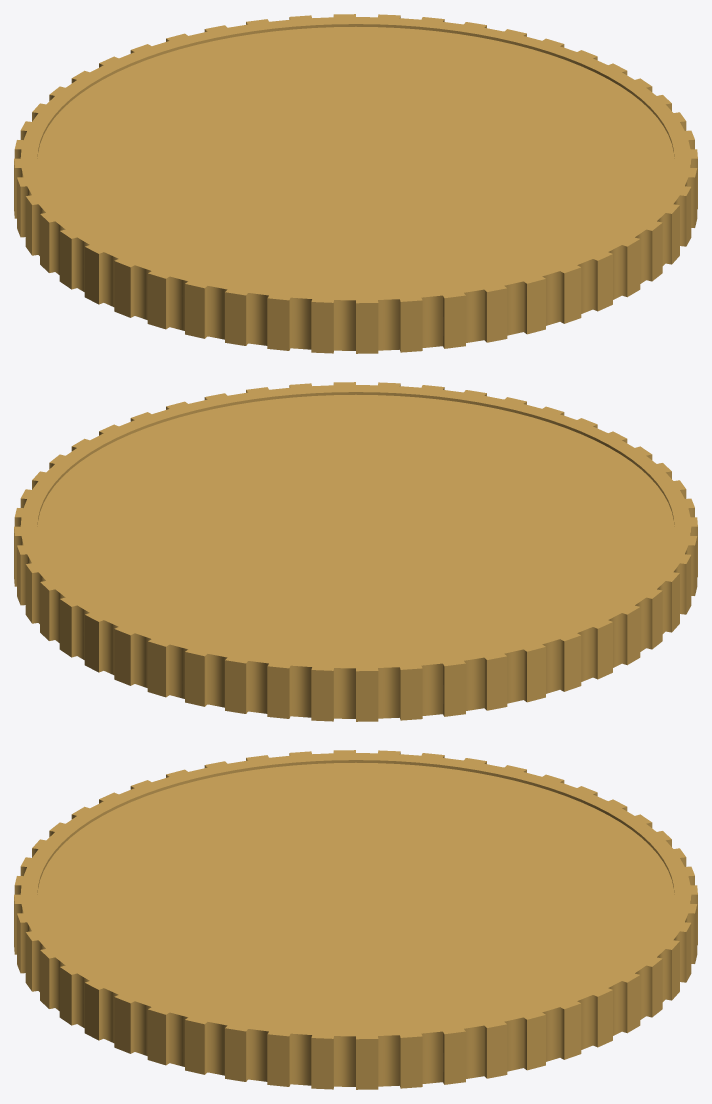
Rendered from uploads_files_233898_50ct.fbx.
3 views of the same model, one above another, from view 1: azimuth 30°, elevation 25°; view 2: azimuth 150°, elevation 25°; view 3: azimuth 270°, elevation 25° (orthographic).
Visible parts, largest first — view 1: Empty_Mesh; view 2: Empty_Mesh; view 3: Empty_Mesh.
Part boxes in pixels (<box>): Empty_Mesh: <box>14,14,697,353</box>; Empty_Mesh: <box>14,382,697,721</box>; Empty_Mesh: <box>14,750,697,1089</box>.
Bounding box in the file's own units: 24.48 × 2 × 24.48.
